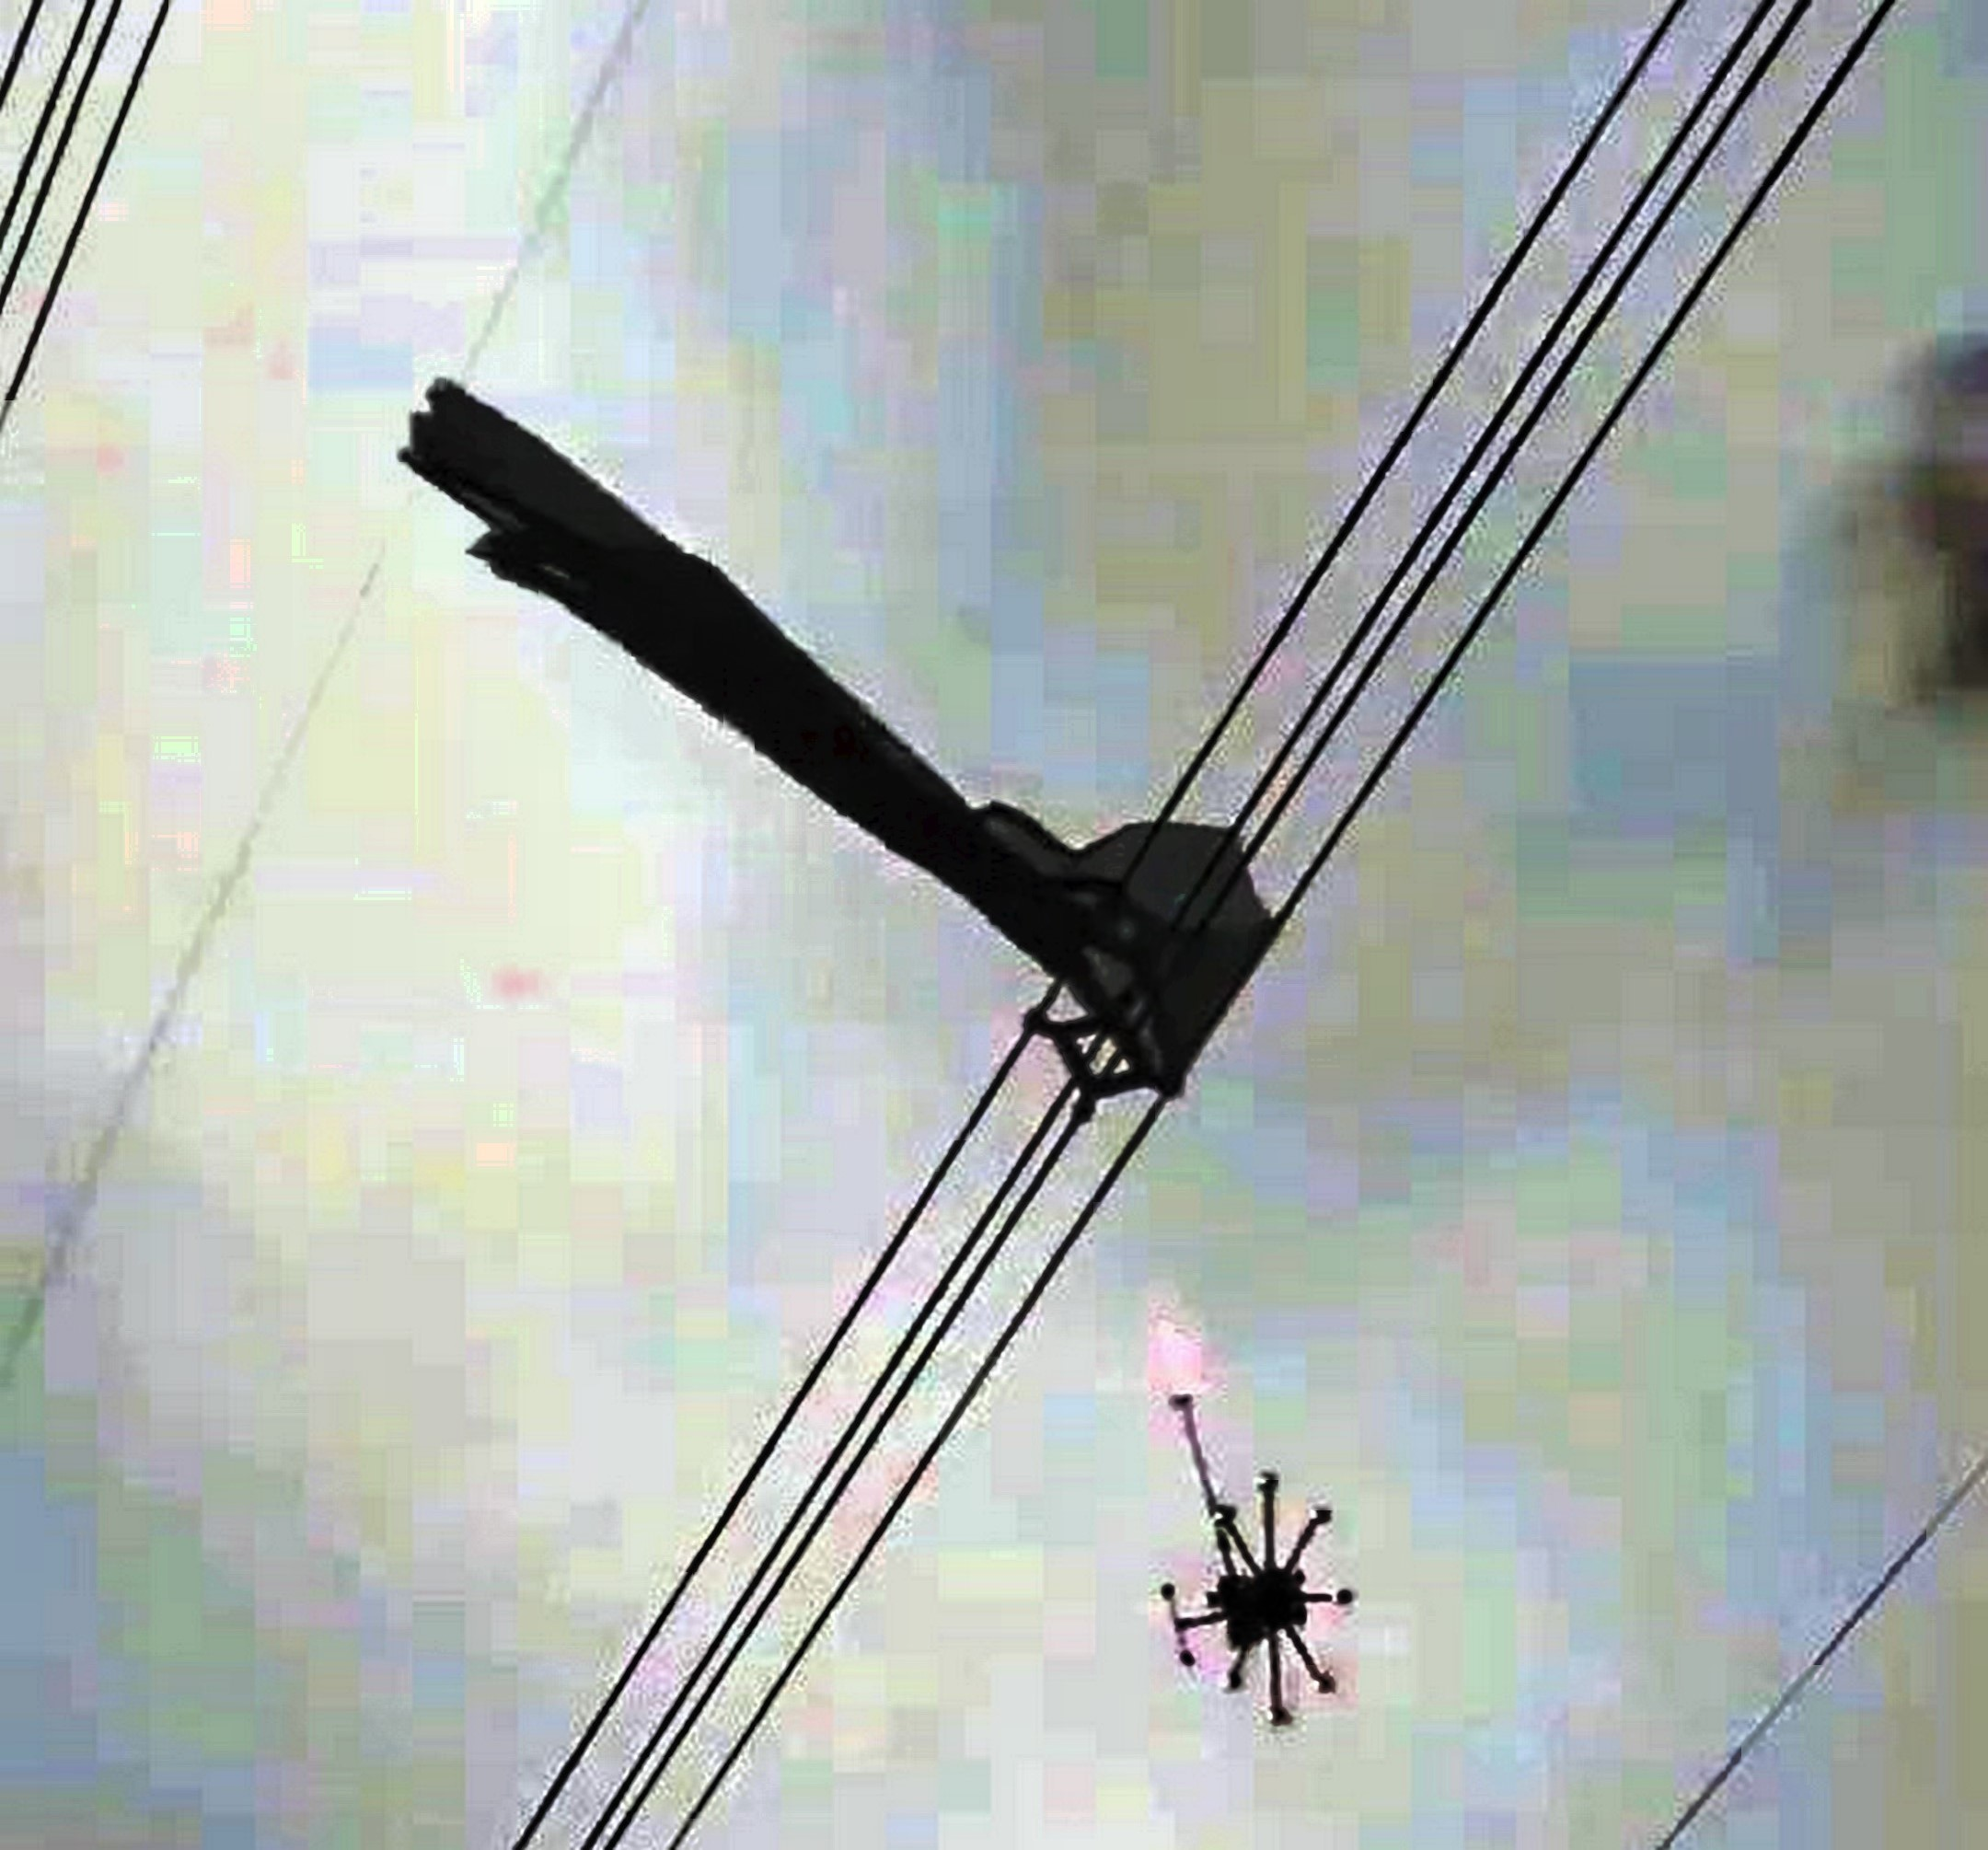wire foreign body: (412, 377, 1348, 1115)
